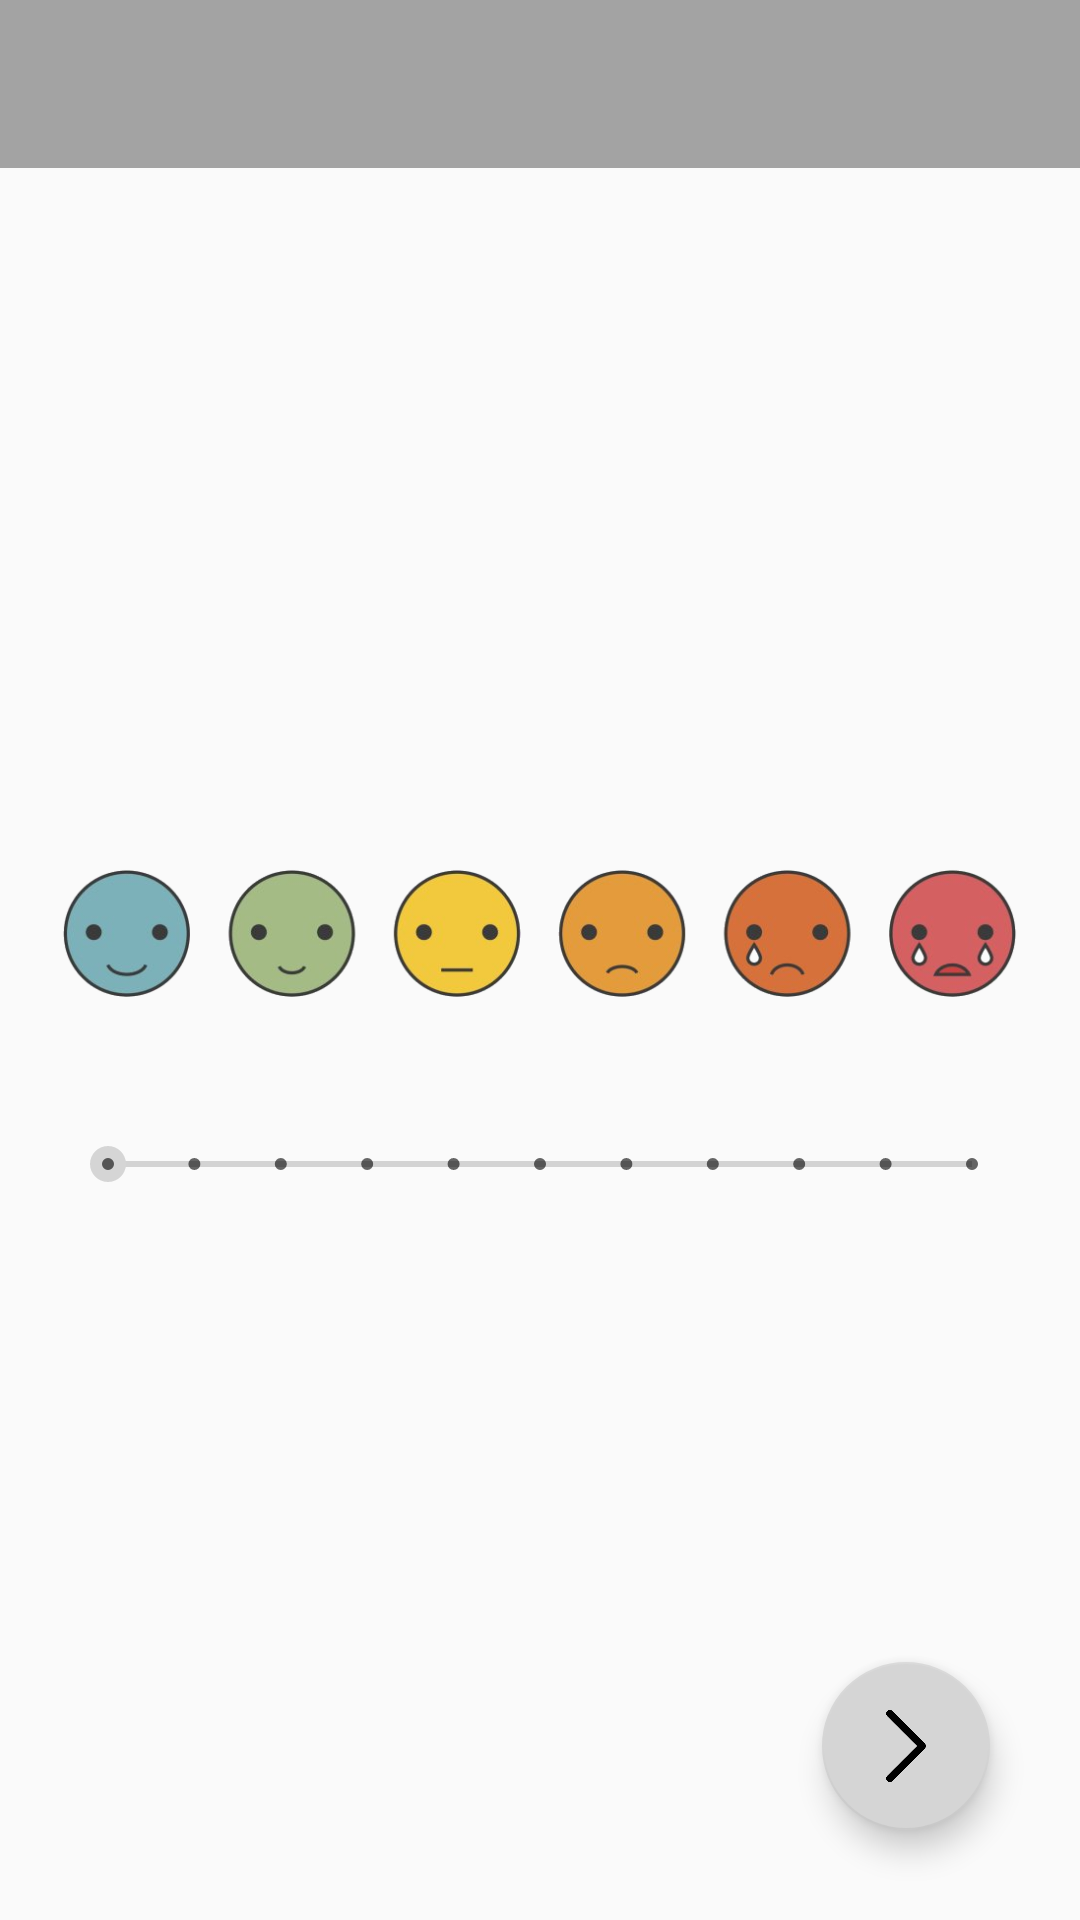

Screen size 1080 x 1920. Icon name, then its center in pixels as [x,y]:
next: [906,1746]
